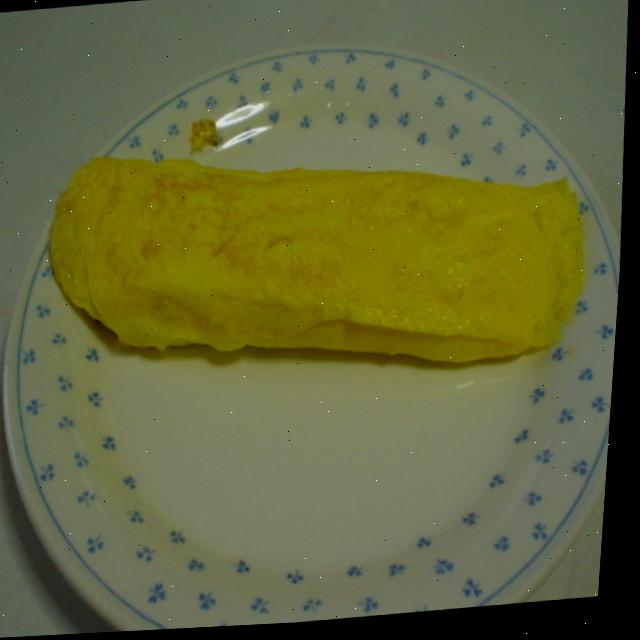鸡蛋料理: (27, 106, 604, 415)
